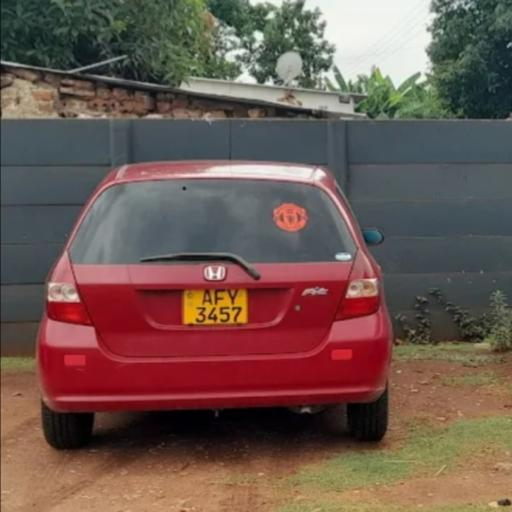number-plates: (187, 282, 242, 328)
